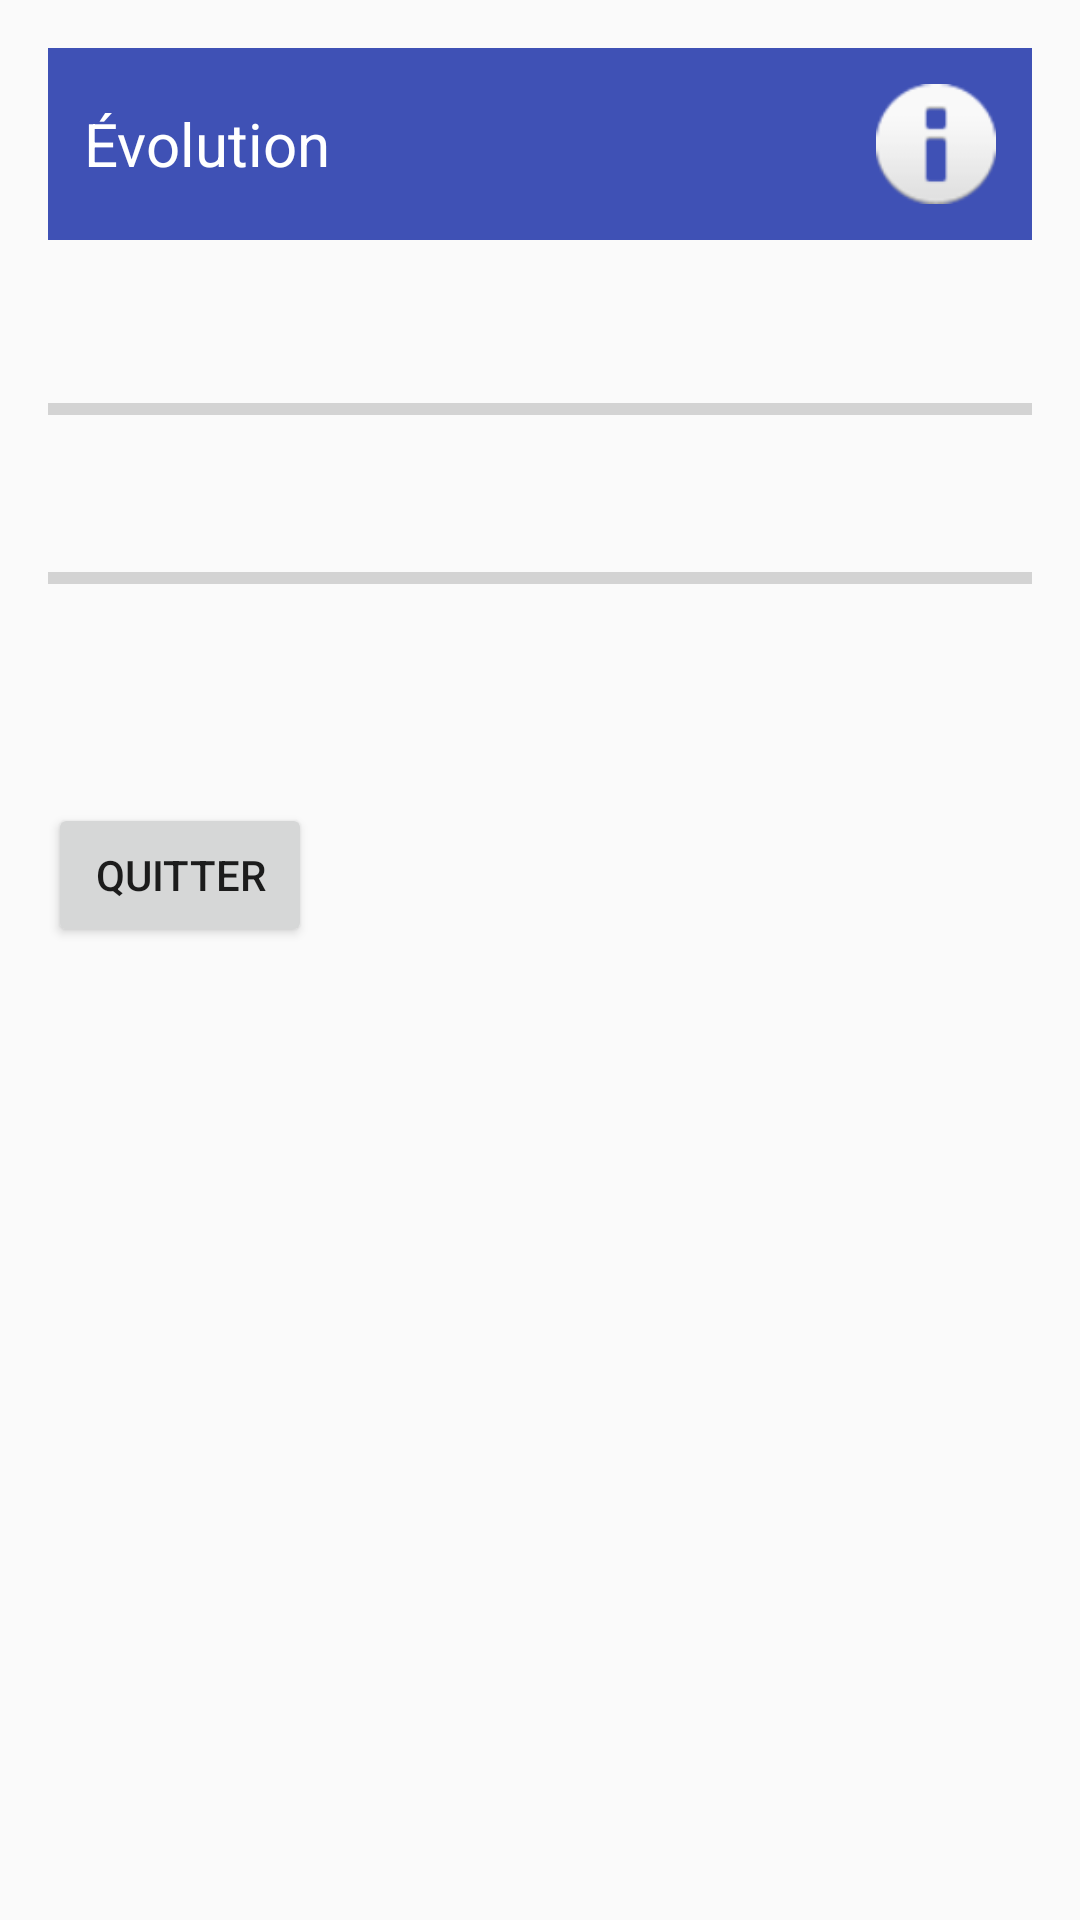

Where to tap for icons on this 1080×1920 app screen, as (x=x, y=y):
info: (x=936, y=144)
